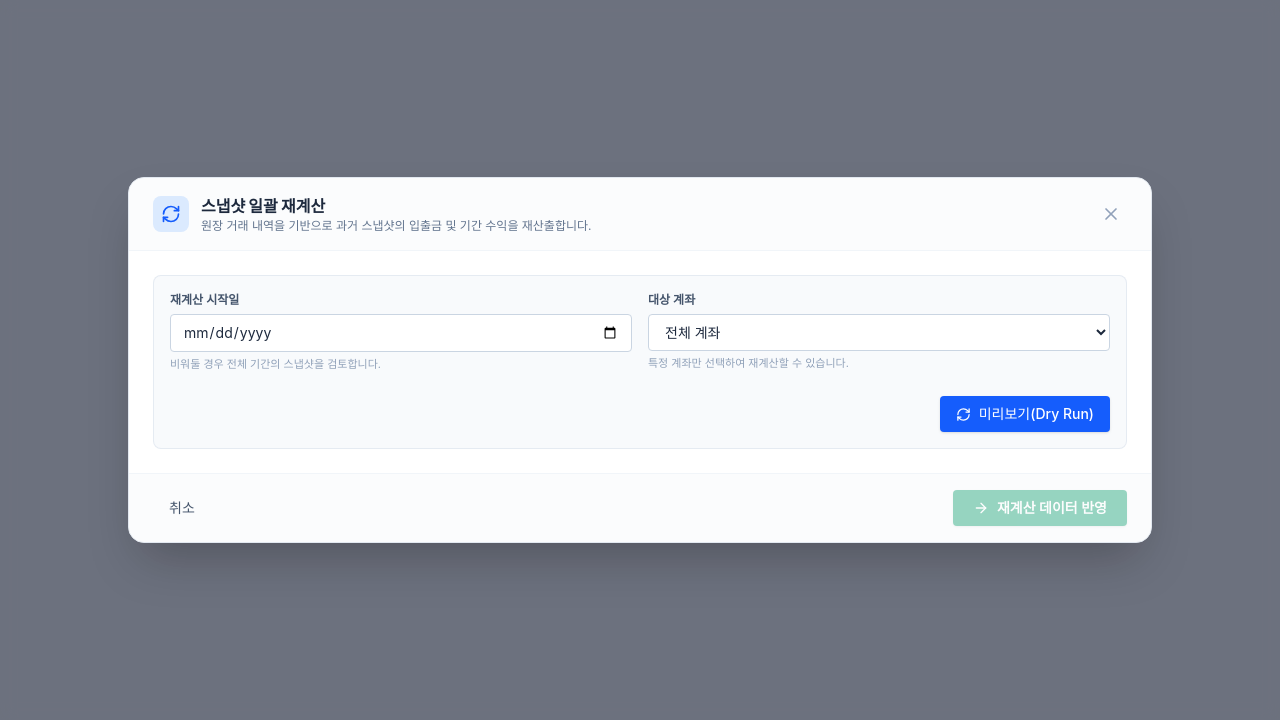
it: SnapshotRecalculateModal 컴포넌트 › 변경 대상이 없는 경우 정합성 정상 메시지가 표시되고 반영 버튼이 비활성화된다
This screenshot has width=1280, height=720.
Click the button "미리보기(Dry Run)" at (1025, 414), box x1=940 y1=396 x2=1110 y2=432
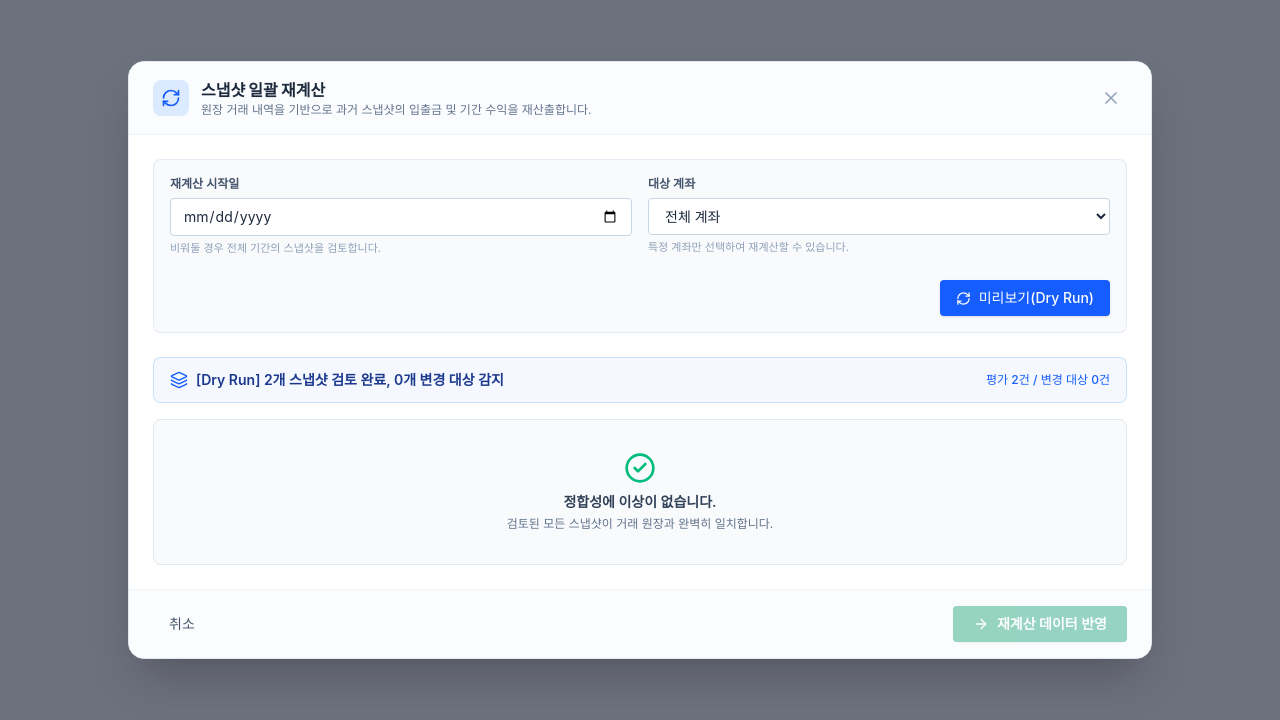
expect the button "재계산 데이터 반영" is disabled: met, box x1=953 y1=606 x2=1127 y2=642
expect the text "정합성에 이상이 없습니다." is shown: met, box x1=563 y1=493 x2=717 y2=510
